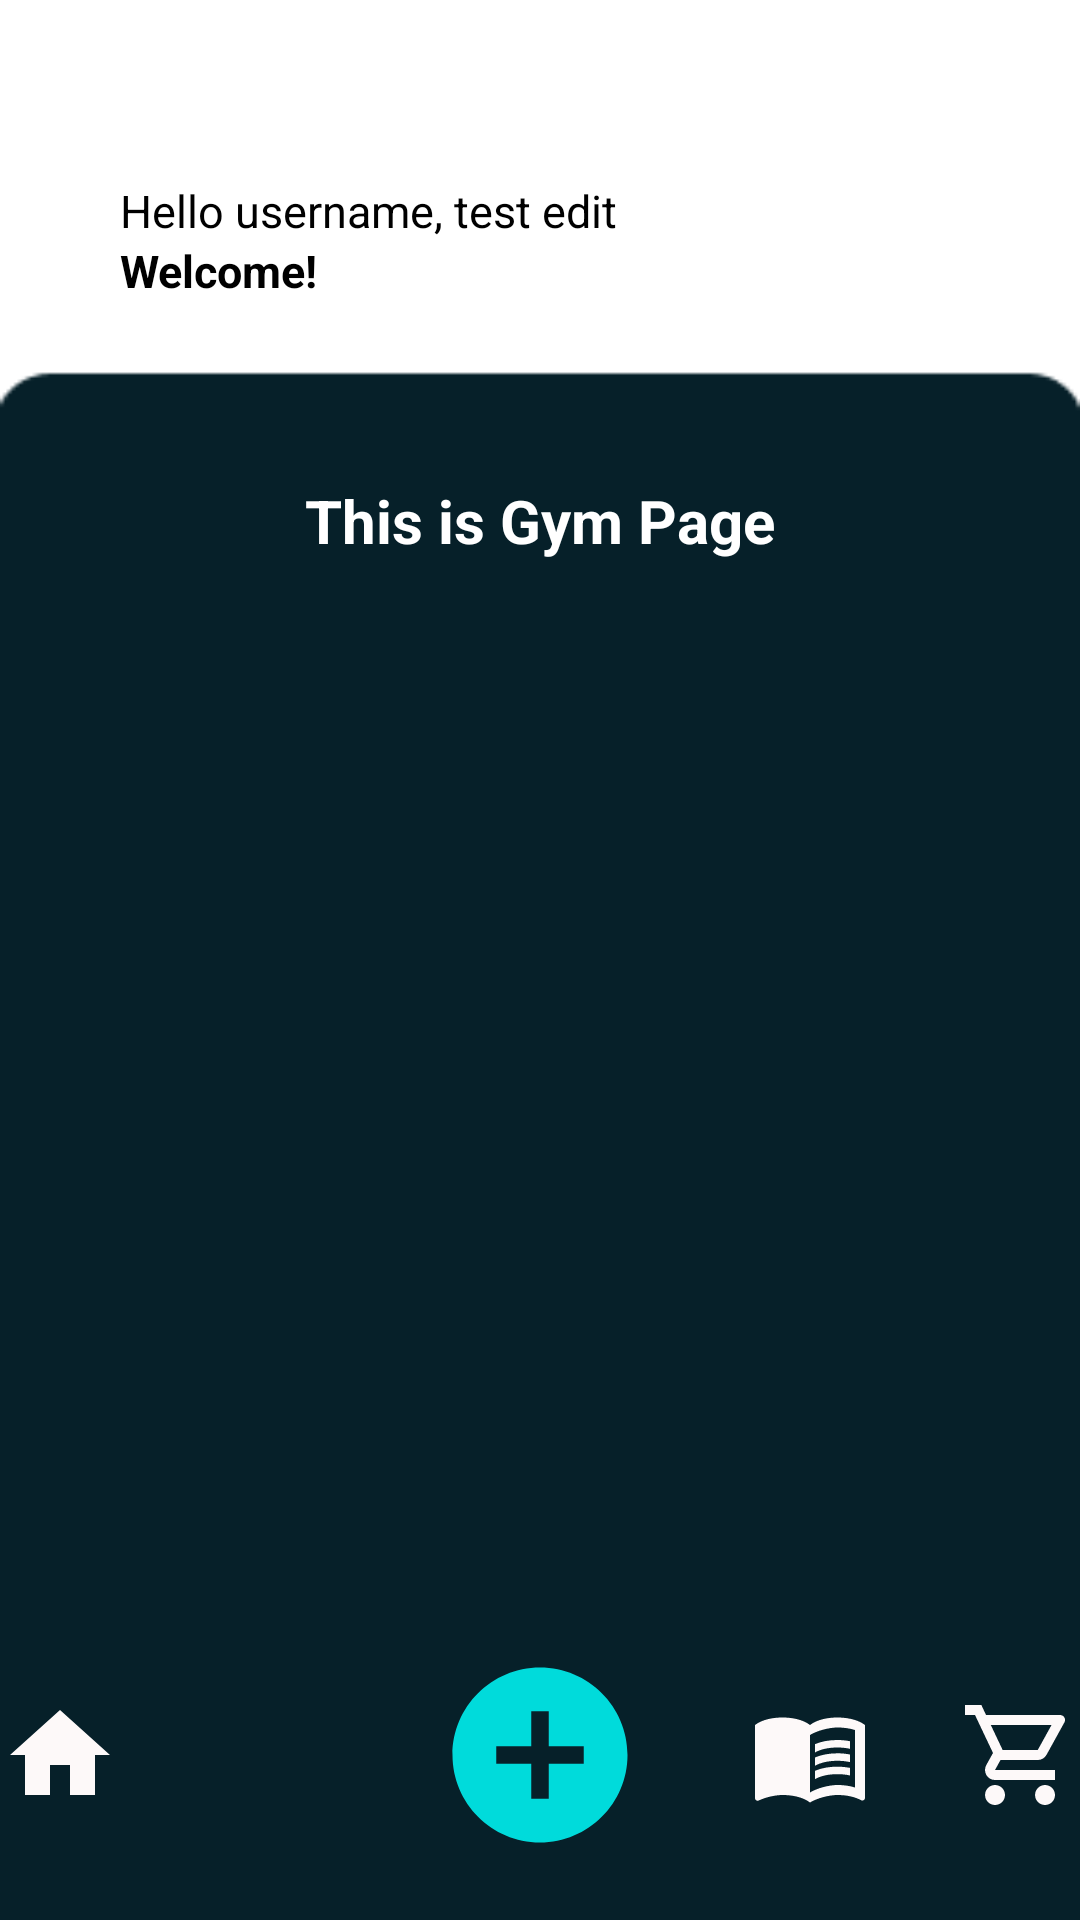

Named icons in this screenshot (1080px x 1920px) and their bounding boxes, bbox(x1, y1, x2, y2):
add circle: bbox(452, 1667, 628, 1843)
book: bbox(755, 1717, 865, 1803)
home: bbox(10, 1710, 110, 1795)
shopping cart: bbox(965, 1705, 1065, 1805)
